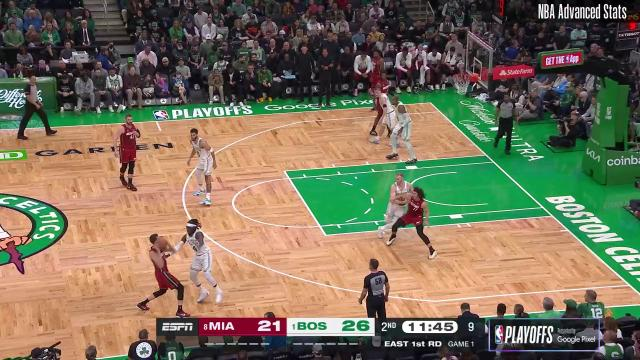3_dx: (622, 277, 634, 291)
3_sx: (434, 107, 446, 117)
b_sx: (424, 98, 436, 108)
free_adx: (318, 228, 334, 241)
free_asx: (278, 166, 292, 178)
free_bdx: (546, 208, 556, 220)
free_bsx: (480, 150, 492, 160)
mid_sx: (152, 117, 160, 125)
referee: (17, 75, 58, 140), (358, 258, 388, 318), (492, 94, 518, 156)
team: (136, 233, 190, 319), (386, 188, 436, 258), (112, 115, 140, 193), (372, 72, 392, 136), (369, 49, 386, 111)
team1: (172, 218, 220, 304), (187, 128, 216, 206), (378, 174, 412, 240), (389, 95, 417, 163), (369, 88, 397, 144)
timer: (404, 318, 458, 334)
